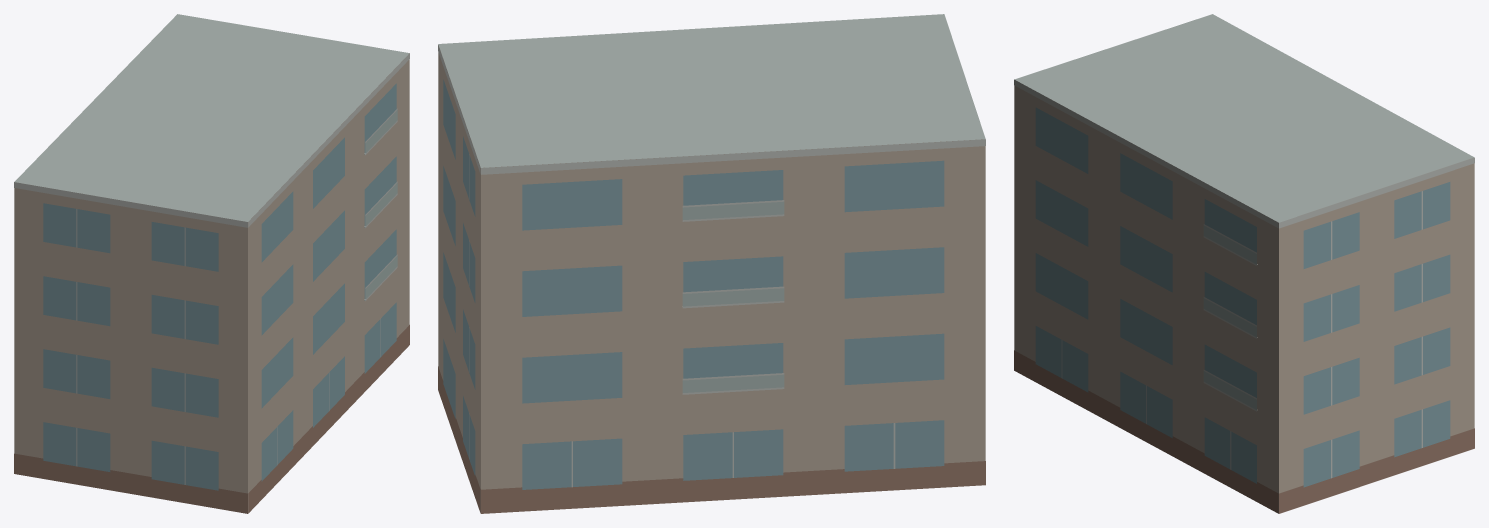
Rendered from survey-upis-32596876.glb.
3 renders of one model, left to right at view 1: azimuth 30°, elevation 25°; view 2: azimuth 150°, elevation 25°; view 3: azimuth 270°, elevation 25°, orthographic. The views are drawn at different scales.
Visible parts, largest first — view 1: survey-upis-32596876.tmp; view 2: survey-upis-32596876.tmp; view 3: survey-upis-32596876.tmp.
Part boxes in pixels (x1,y1,x2,y2): survey-upis-32596876.tmp: (14, 14, 409, 513); survey-upis-32596876.tmp: (438, 14, 985, 513); survey-upis-32596876.tmp: (1014, 14, 1474, 513).
Size of the model in its own units: 18.77 by 12.2 by 17.5.
